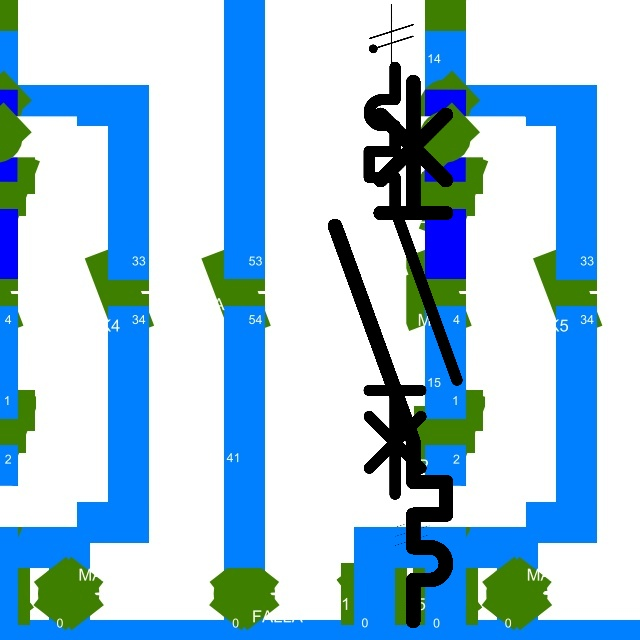interruptor_termomagnetico: (321, 68, 460, 635), (358, 56, 468, 505)
